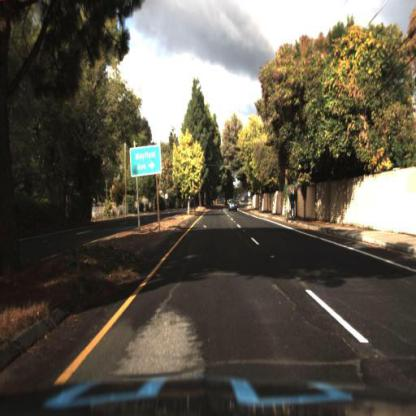car: (229, 201, 239, 213)
pedestrian: (290, 192, 297, 219)
